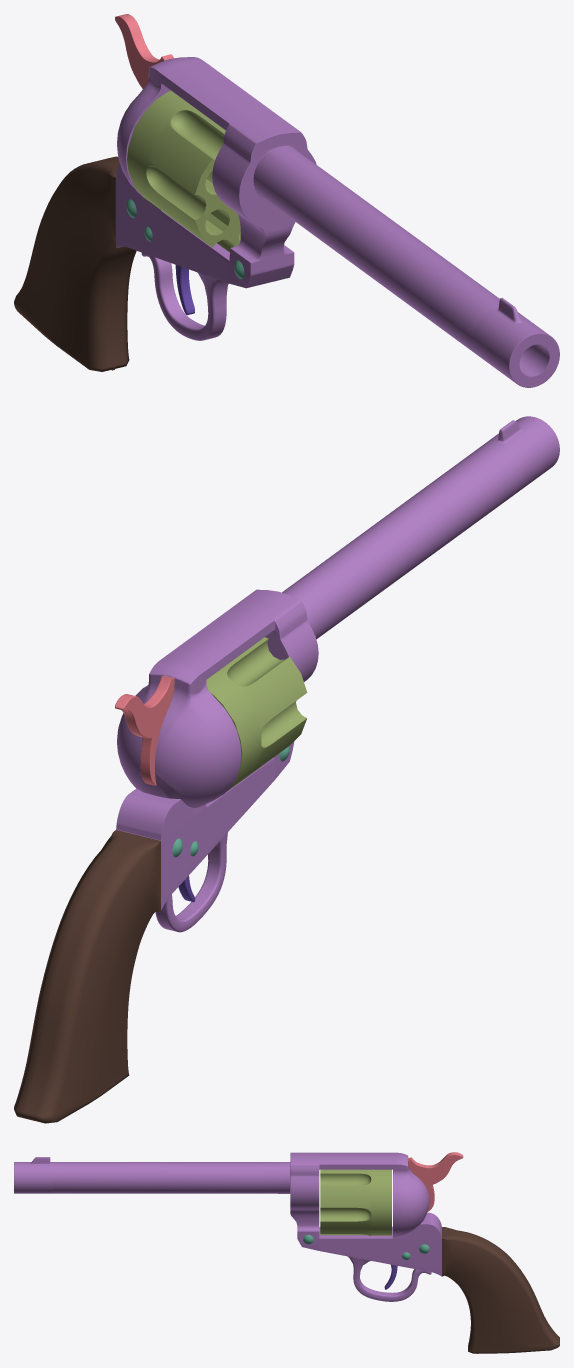
The model's file is gun4.fbx.
3 views of the same model, one above another, from view 1: azimuth 30°, elevation 25°; view 2: azimuth 150°, elevation 25°; view 3: azimuth 270°, elevation 25° (orthographic). The views are drawn at different scales.
Visible parts, largest first — view 1: gun2, cylinder, hammer, trigger; view 2: gun2, cylinder, hammer; view 3: gun2, cylinder, hammer.
Boxes of the visible parts, x1,y1,x2,y2 form: gun2: (14,57,559,387); cylinder: (127,90,240,252); hammer: (115,14,173,89); trigger: (175,265,194,315); gun2: (14,416,559,1123); cylinder: (206,637,307,791); hammer: (115,675,174,785); gun2: (14,1152,559,1353); cylinder: (320,1169,391,1235); hammer: (408,1152,463,1211).
Size of the model in its own units: 1.01 by 3.04 by 7.67.
